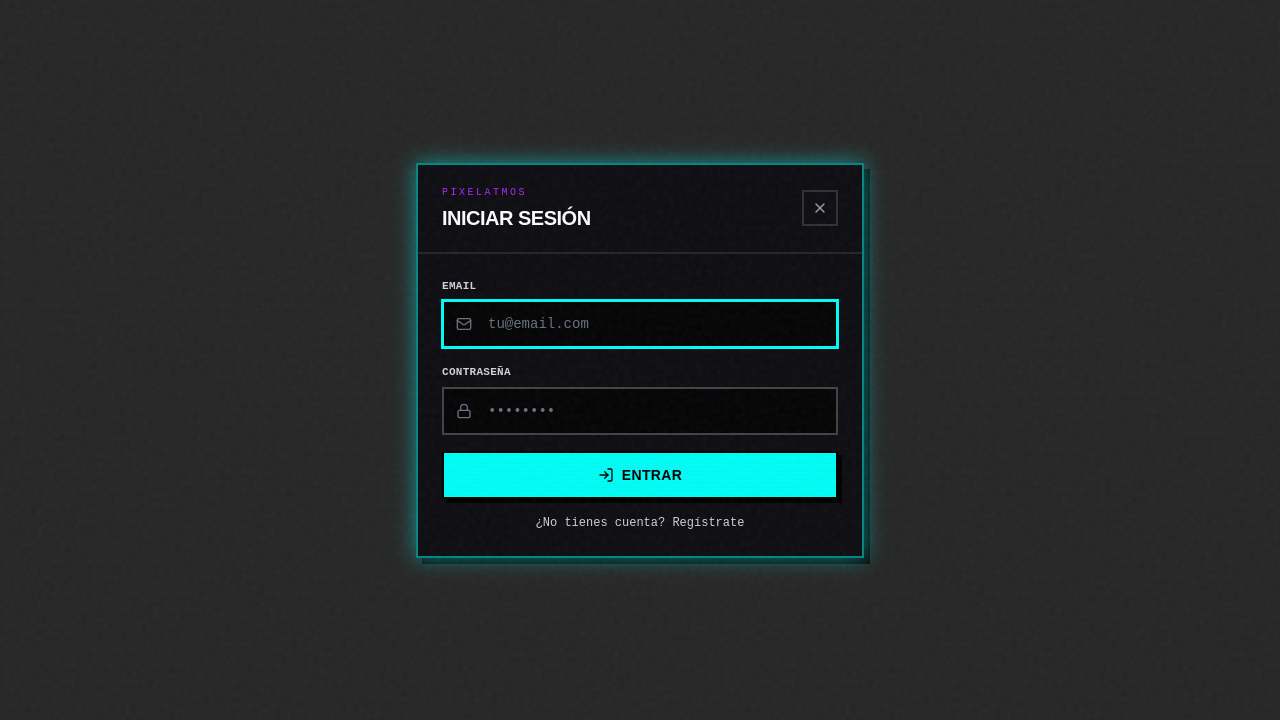
Test: AuthModal › shows the error and stays open when sign-in fails
Type "a@b.c" into the field labelled "Email" at x=640, y=324, box [442,300,838,348]
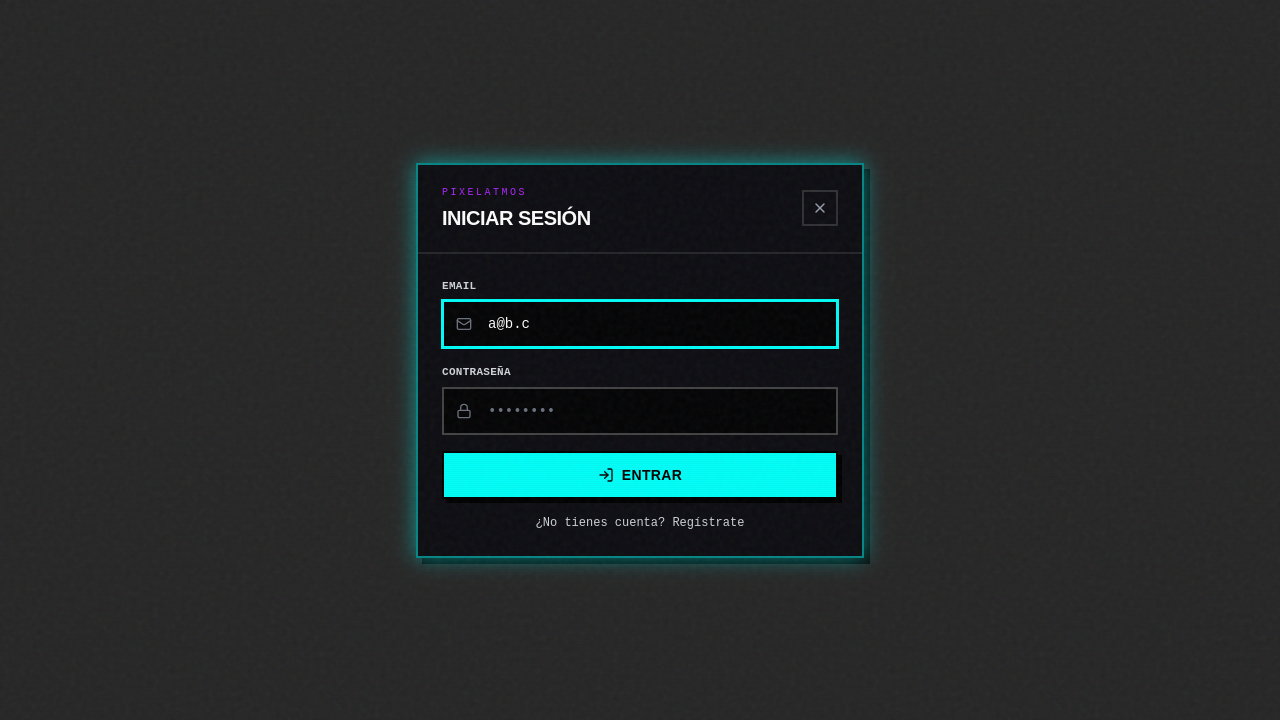
Type "secret1" into the password field labelled "Contraseña" at x=640, y=410, box [442,386,838,434]
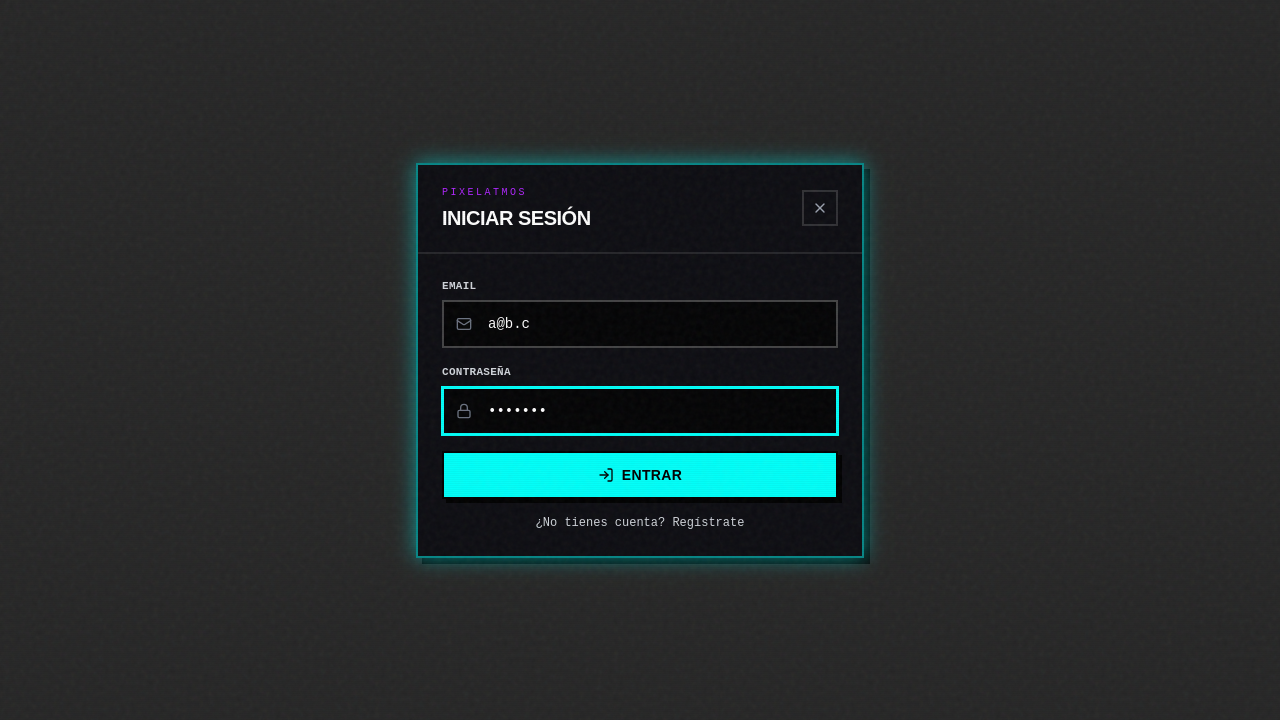
Click the button "Entrar" at x=640, y=474, box [442,450,838,498]
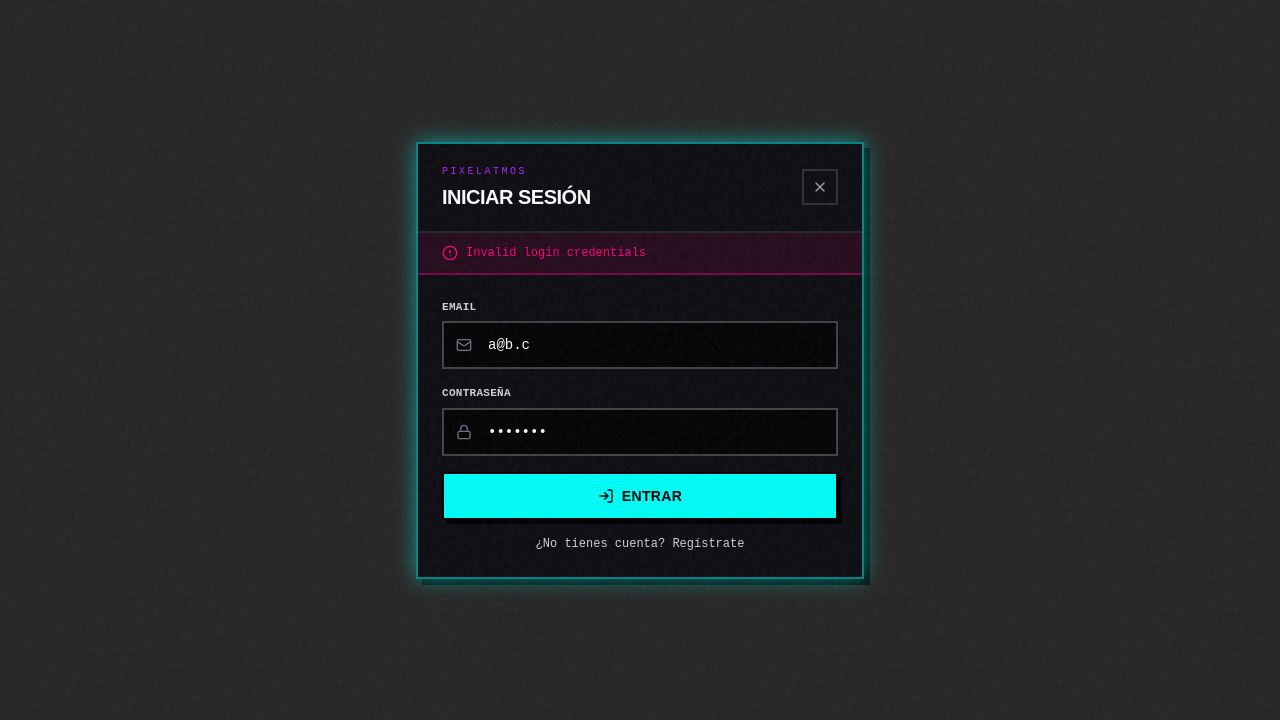
Check: the text "Invalid login credentials" is shown, box [466,244,646,260]
